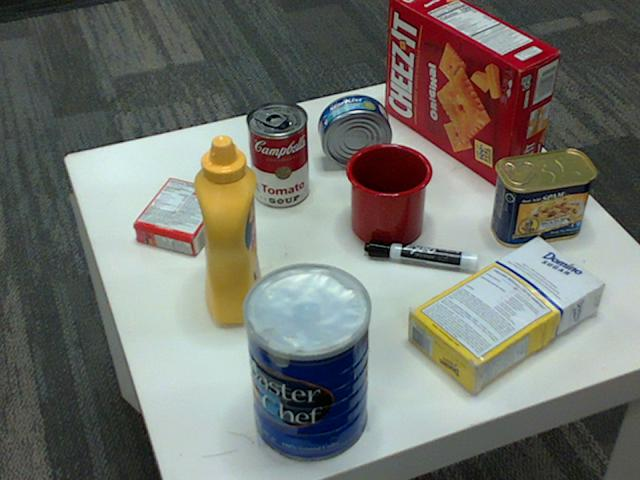cracker_box: (385, 0, 559, 188)
gelatin_box: (131, 174, 226, 253)
large_marker: (365, 240, 479, 275)
master_chef_can: (241, 265, 370, 464)
mug: (343, 142, 431, 247)
mustard_bottle: (191, 135, 261, 323)
potted_meat_can: (490, 150, 594, 248)
sugar_box: (405, 236, 602, 395)
tomato_soup_can: (245, 101, 308, 208)
tuna_fish_can: (317, 94, 390, 168)
